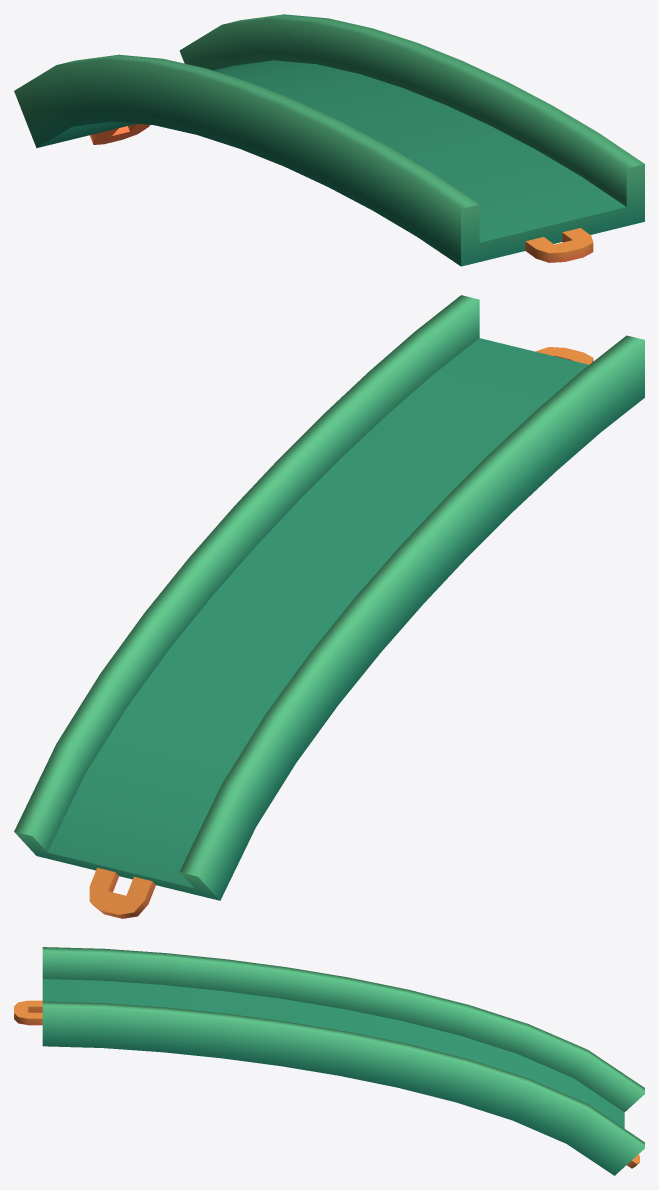
File: track-narrow-straight-hill-end.fbx
3 renders of one model, top to bottom at view 1: azimuth 30°, elevation 25°; view 2: azimuth 150°, elevation 25°; view 3: azimuth 270°, elevation 25°, orthographic. The views are drawn at different scales.
Visible parts, largest first — view 1: track-narrow-straight-hill-end; view 2: track-narrow-straight-hill-end; view 3: track-narrow-straight-hill-end.
Part boxes in pixels (<box>): track-narrow-straight-hill-end: <box>14,14,644,266</box>; track-narrow-straight-hill-end: <box>14,295,644,918</box>; track-narrow-straight-hill-end: <box>14,947,644,1175</box>.
Bounding box in the file's own units: 100 × 144 × 441.
